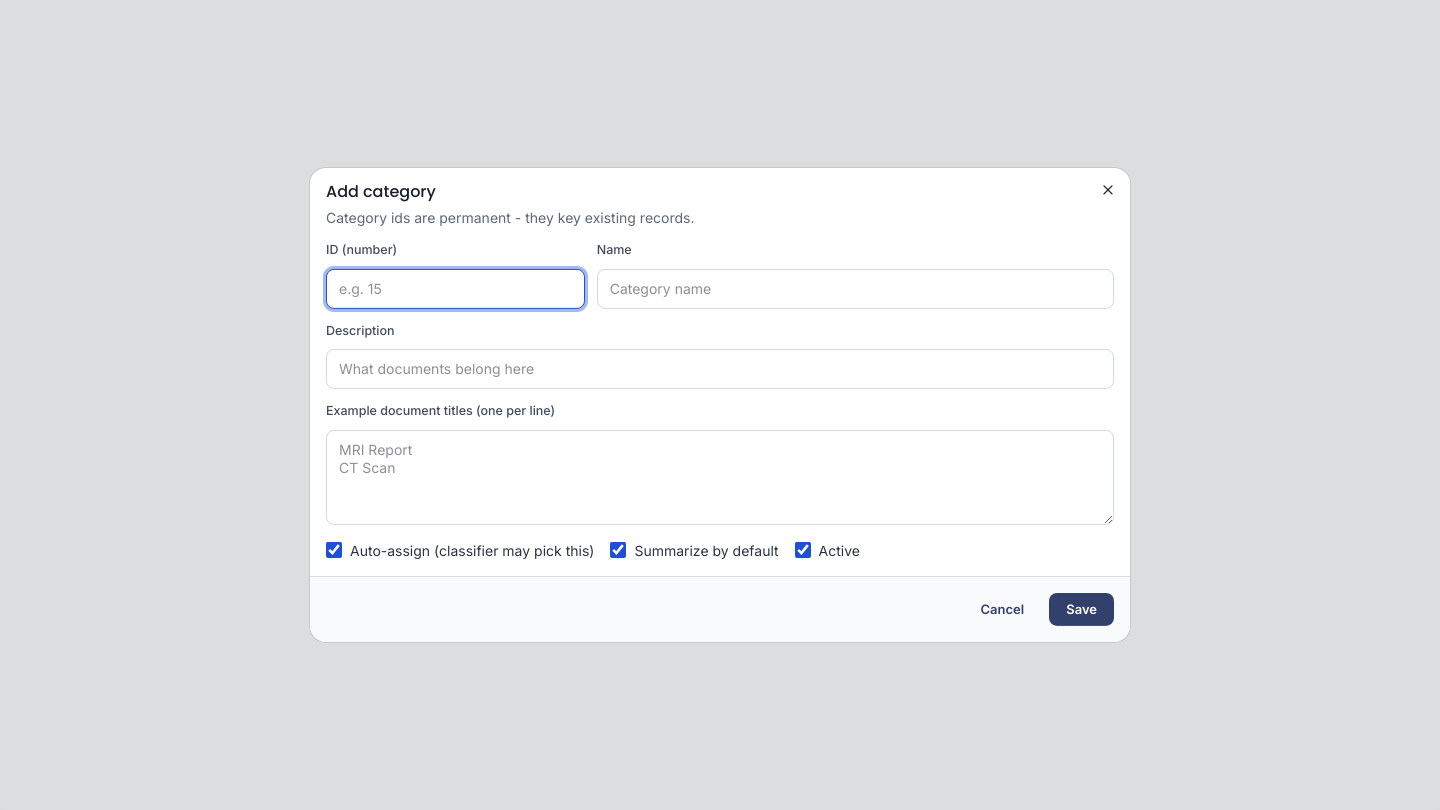
Test: CategoryDialog error handling › passes through an actionable server message (409 duplicate id)
What coordinates should you click on to do the following:
click the button "Save"
I would click on:
 (1082, 610)
Its box is left=1049, top=593, right=1114, bottom=626.
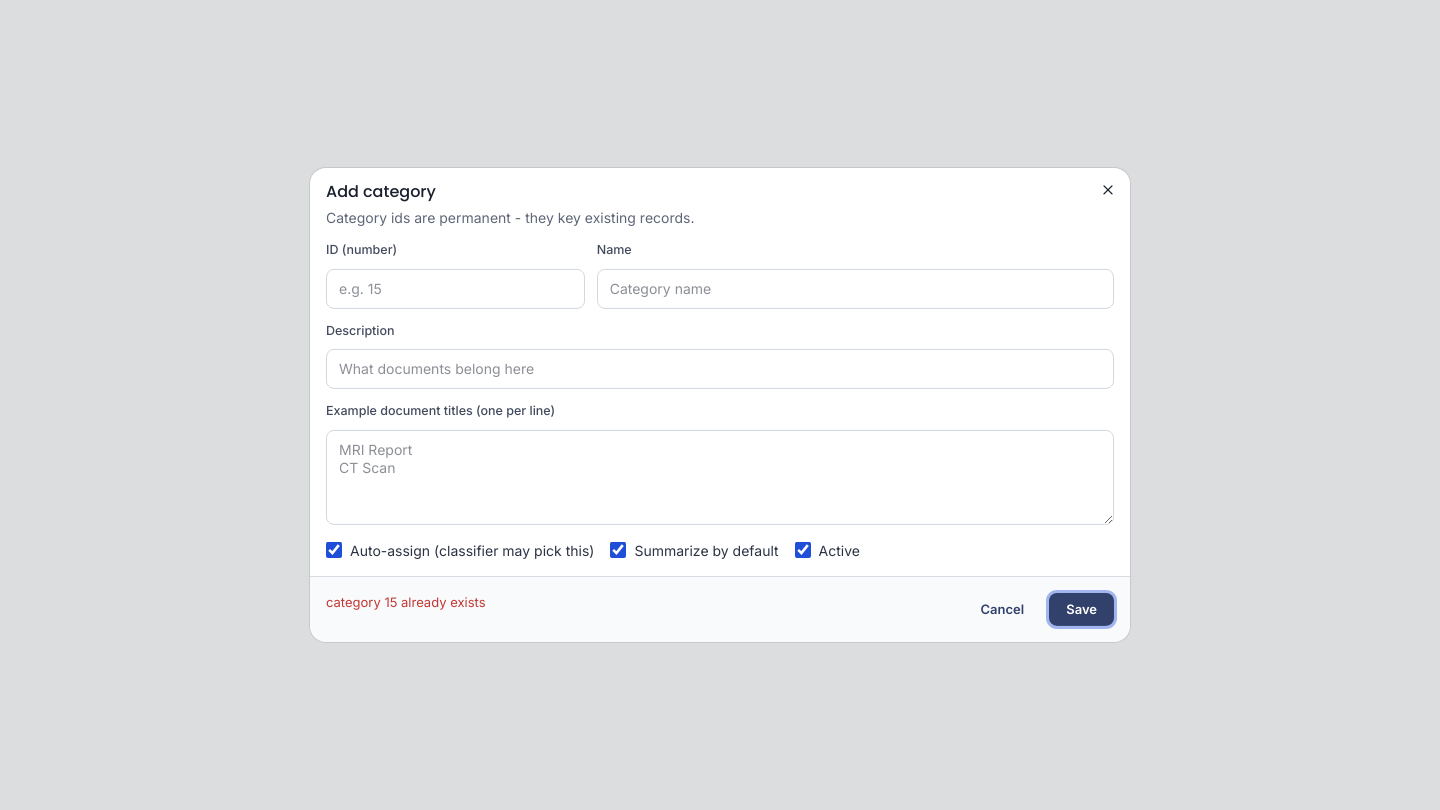
Expected: the text "category 15 already exists" is shown, left=326, top=594, right=486, bottom=610
